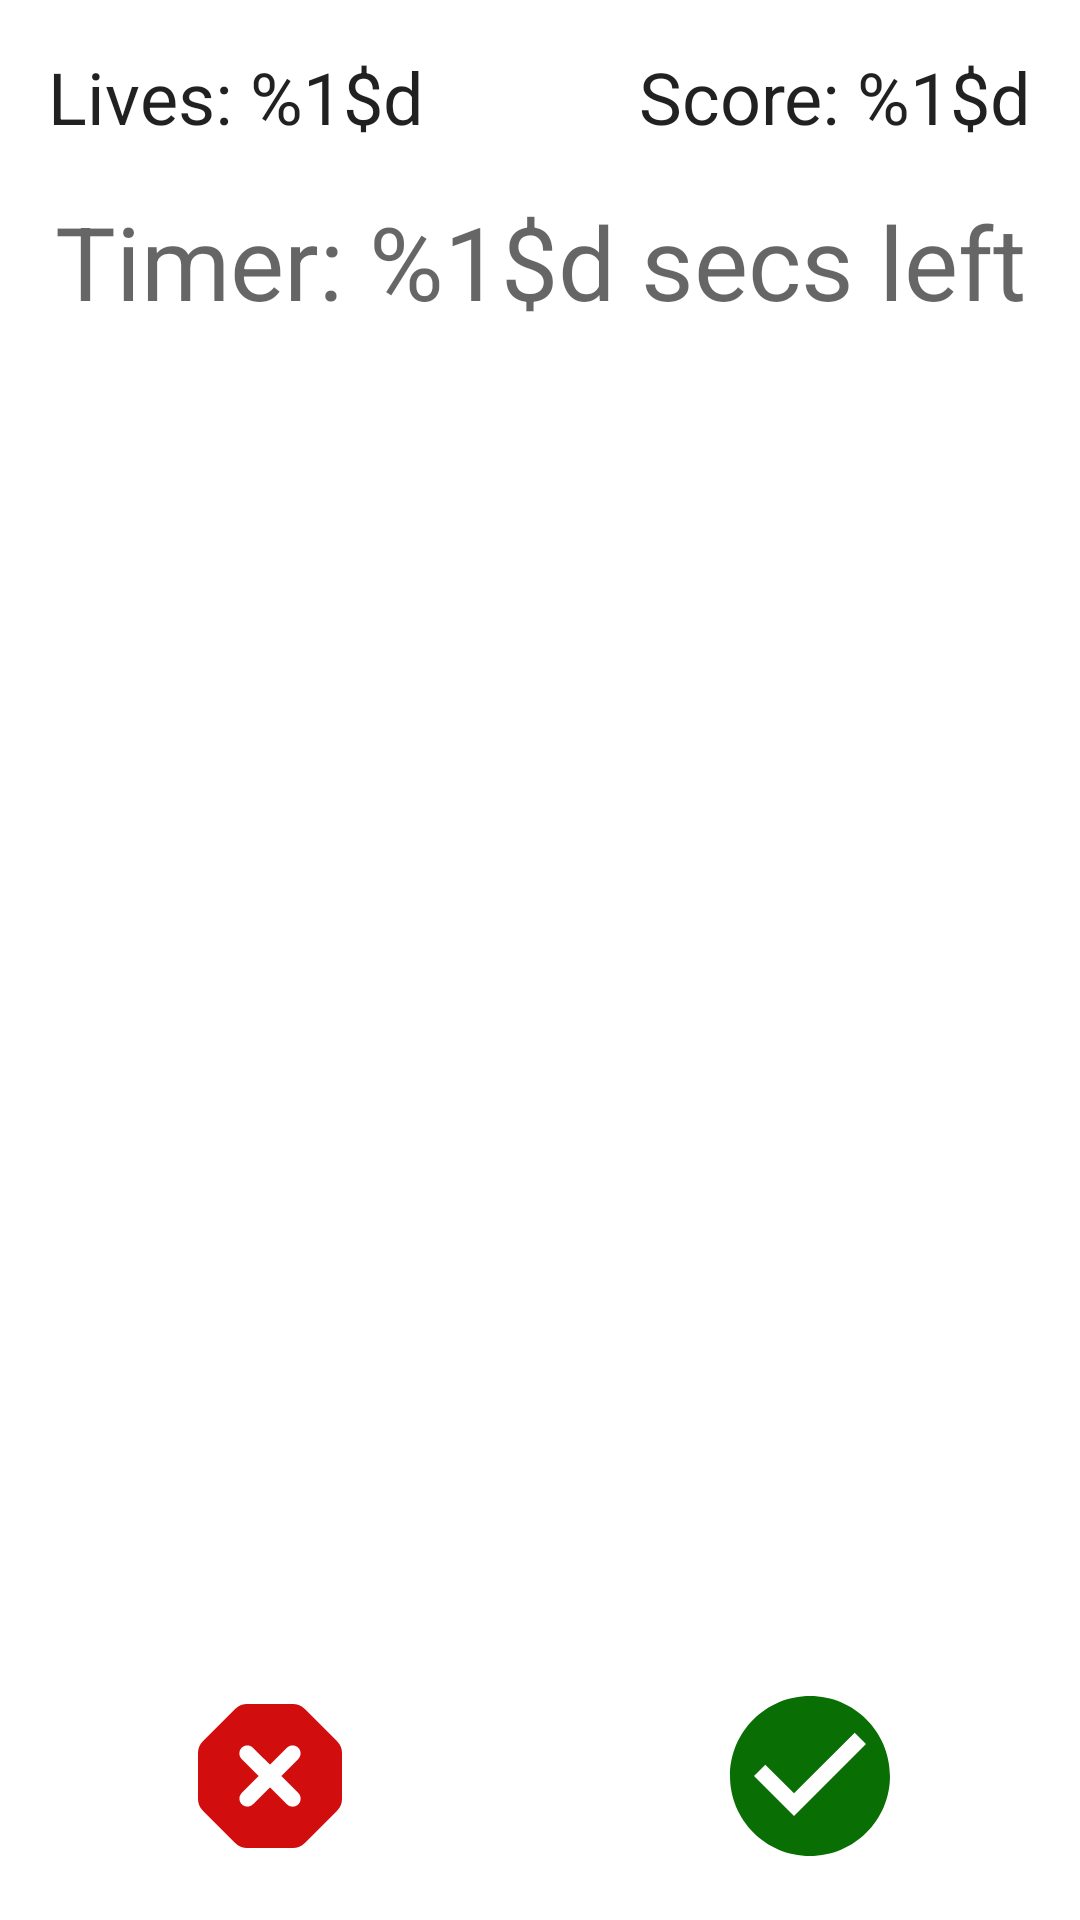

Screen size 1080px×1920px. Icon name, then its center in pixels as point (x, y):
Correct Button: point (810, 1776)
Wrong Button: point (270, 1776)
